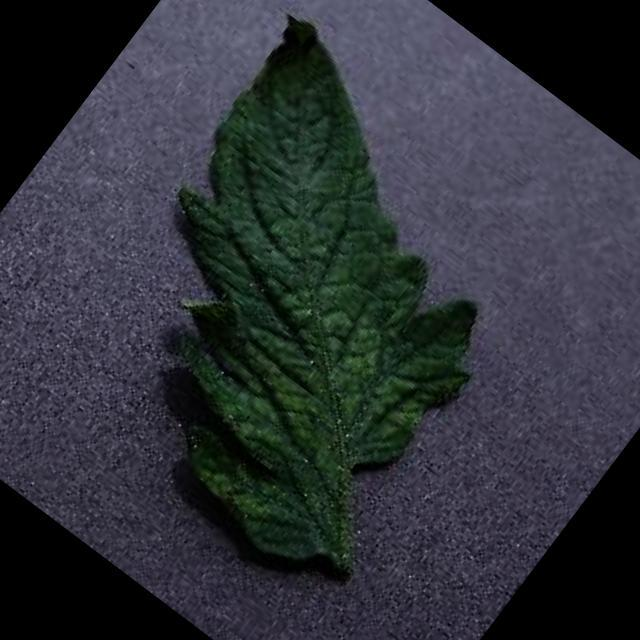Tomato mosaic virus leaf: (21, 6, 588, 588)
